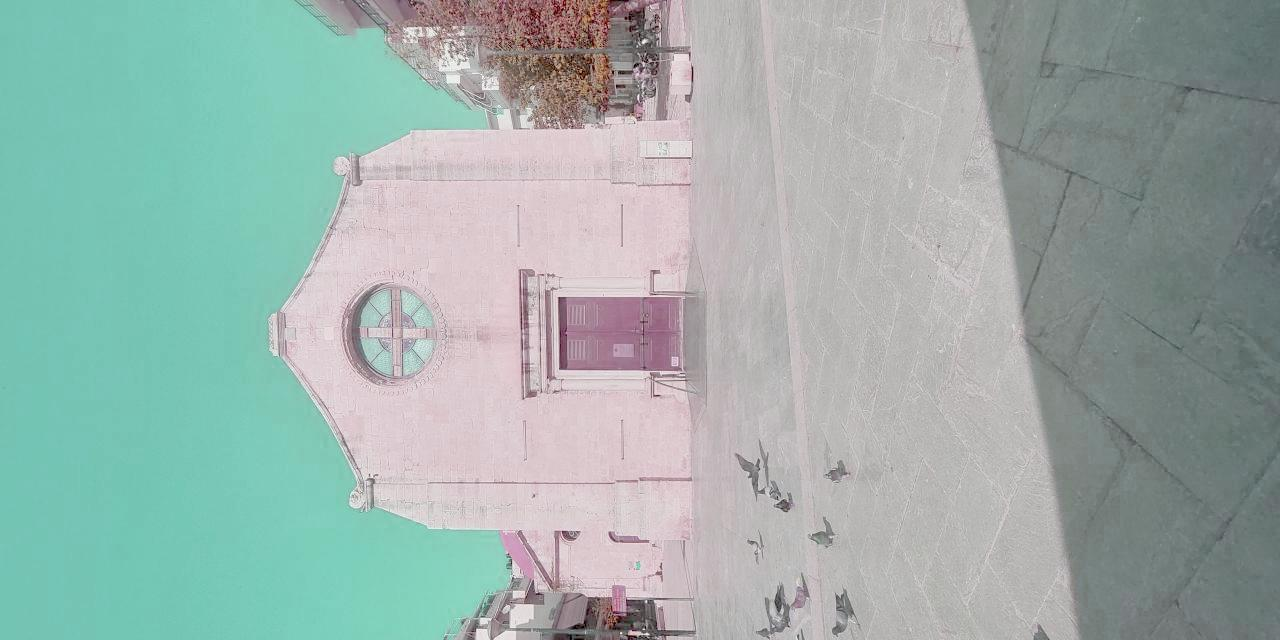Agia Aikaterini: (268, 107, 694, 537)
